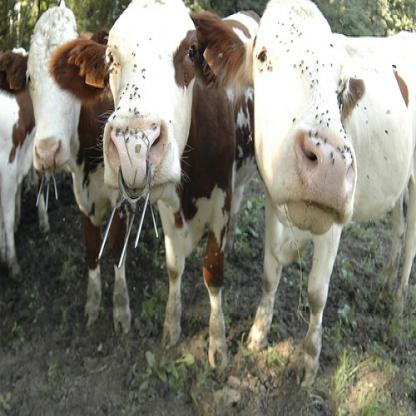cow: (193, 0, 415, 389), (48, 0, 260, 367), (0, 5, 132, 333), (0, 43, 49, 280)
